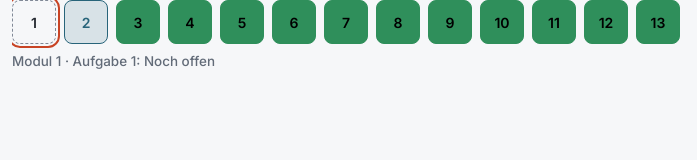
Scenario: numbered Live task strip › does not let mouse focus pin the caption against later hover
Hover over the link "13" at [658, 22], box [636,0,680,44]
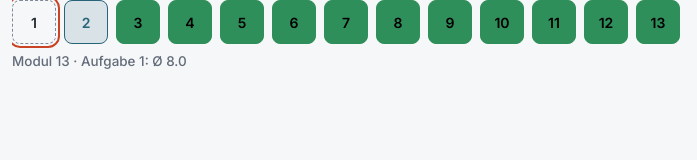
Now the text "Modul 13 · Aufgabe 1: Ø 8.0" is shown, box [12,53,187,69]
